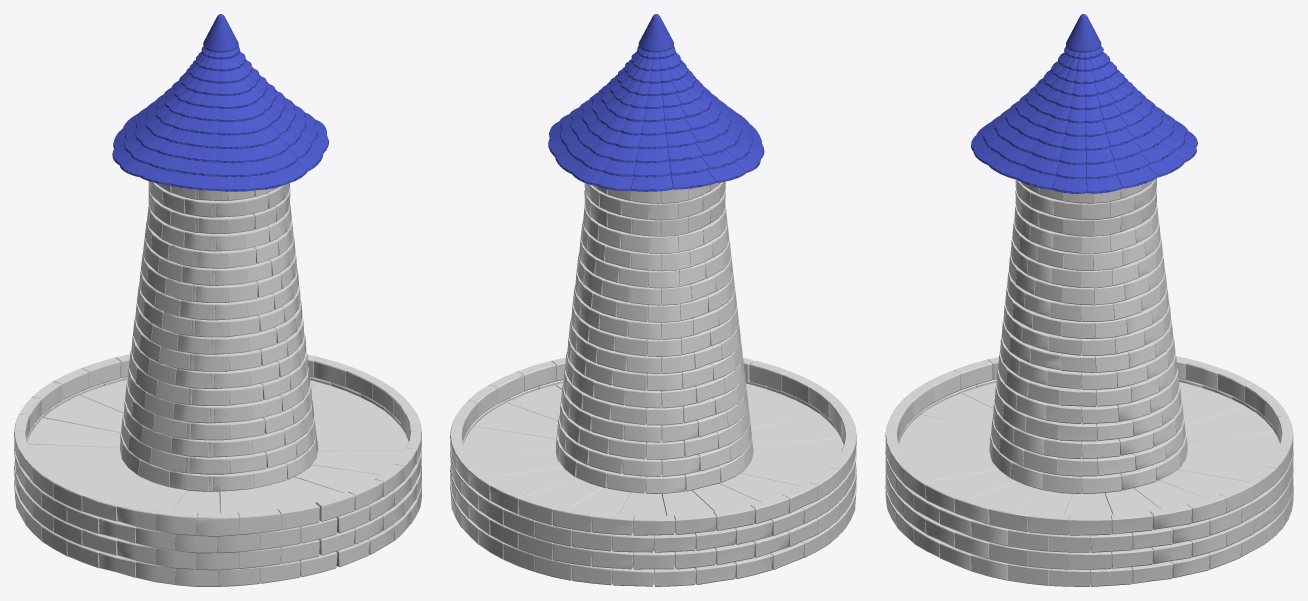
File: main_tower_2.fbx
3 views of the same model, side by side, from view 1: azimuth 30°, elevation 25°; view 2: azimuth 150°, elevation 25°; view 3: azimuth 270°, elevation 25° (orthographic).
Visible parts, largest first — view 1: Cube, Cube.001, Cube.002, Tile.001, Cube.003; view 2: Cube, Cube.001, Cube.002, Tile.001, Cube.003; view 3: Cube, Cube.001, Cube.002, Tile.001, Cube.003.
Part boxes in pixels (x1,y1,x2,y2): Cube: [120, 181, 318, 491]; Cube.001: [14, 354, 421, 586]; Cube.002: [27, 380, 408, 513]; Tile.001: [112, 46, 328, 191]; Cube.003: [203, 14, 238, 52]; Cube: [555, 181, 753, 493]; Cube.001: [450, 357, 856, 586]; Cube.002: [463, 383, 843, 550]; Tile.001: [548, 46, 764, 191]; Cube.003: [638, 14, 673, 52]; Cube: [989, 178, 1187, 493]; Cube.001: [885, 356, 1293, 586]; Cube.002: [898, 382, 1279, 515]; Tile.001: [971, 46, 1197, 193]; Cube.003: [1066, 14, 1101, 52].
Size of the model in its own units: 933 by 1234 by 934.
